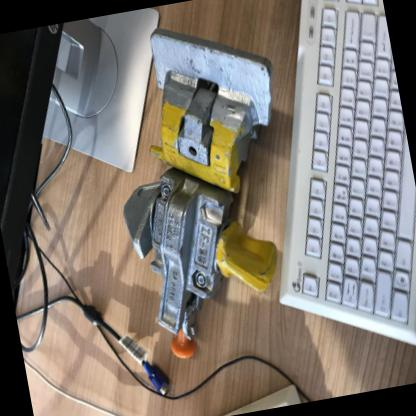Twistlock: (87, 0, 328, 372)
